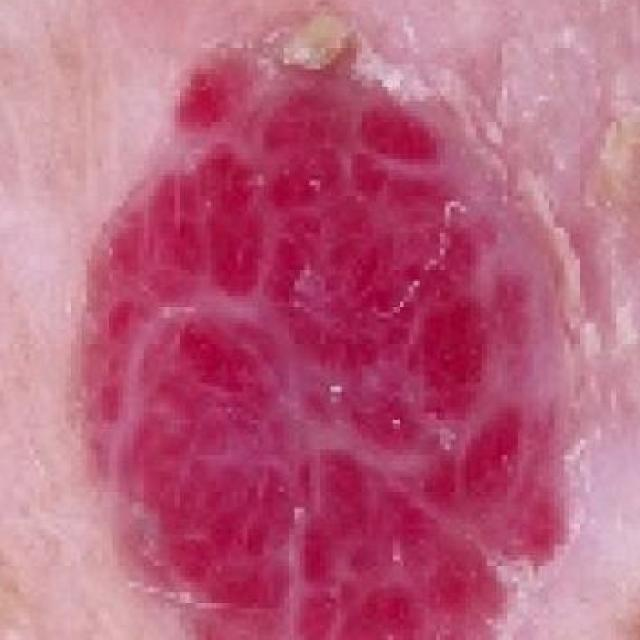VASC: (43, 3, 640, 640)
